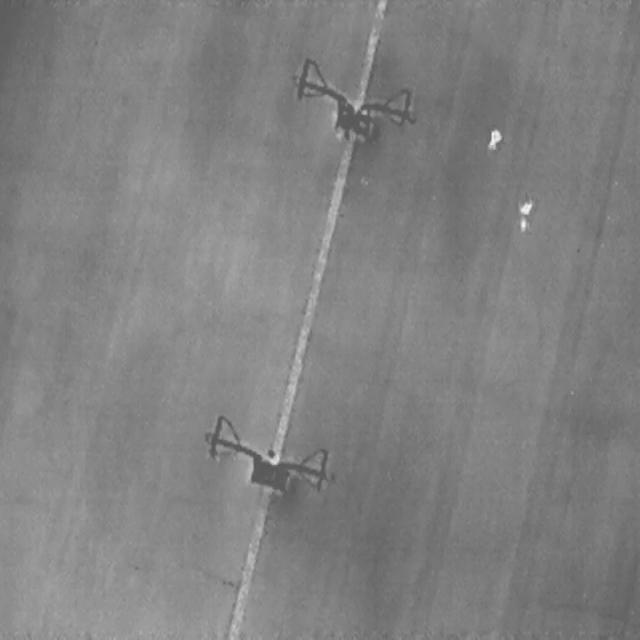Person: (514, 196, 533, 232), (482, 124, 503, 155)
